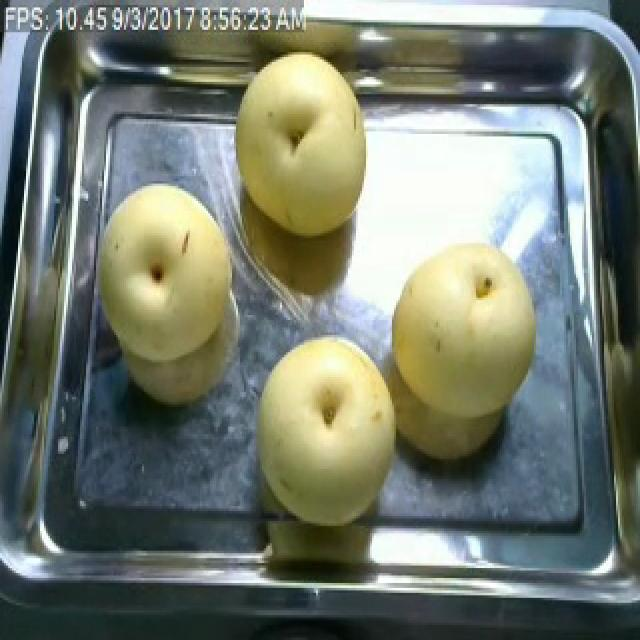Fruit: (384, 230, 546, 447), (246, 328, 406, 534), (224, 40, 380, 248), (88, 173, 248, 374)
